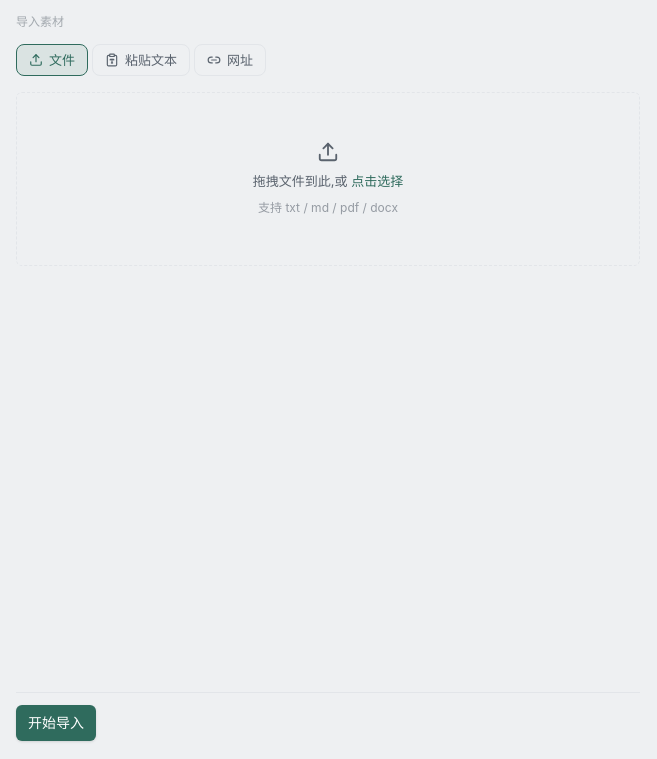
Test: 素材导入可信反馈 › 提交部分失败时留在页面显示失败项和原因
The width and height of the screenshot is (657, 759).
Click the button "粘贴文本": (141, 60) 92,44 -> 190,76
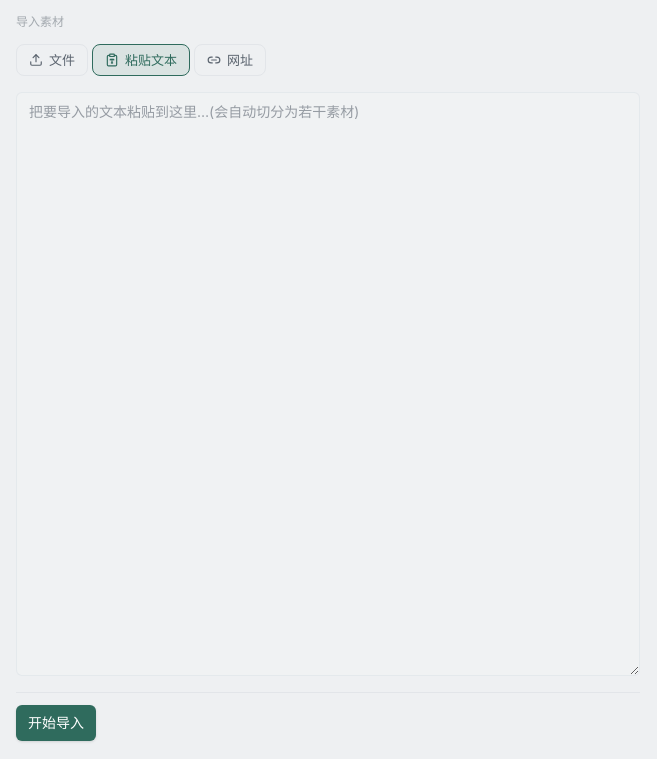
In the text box named "粘贴要导入的文本": (328, 384) 16,92 -> 640,676, type "一段素材"
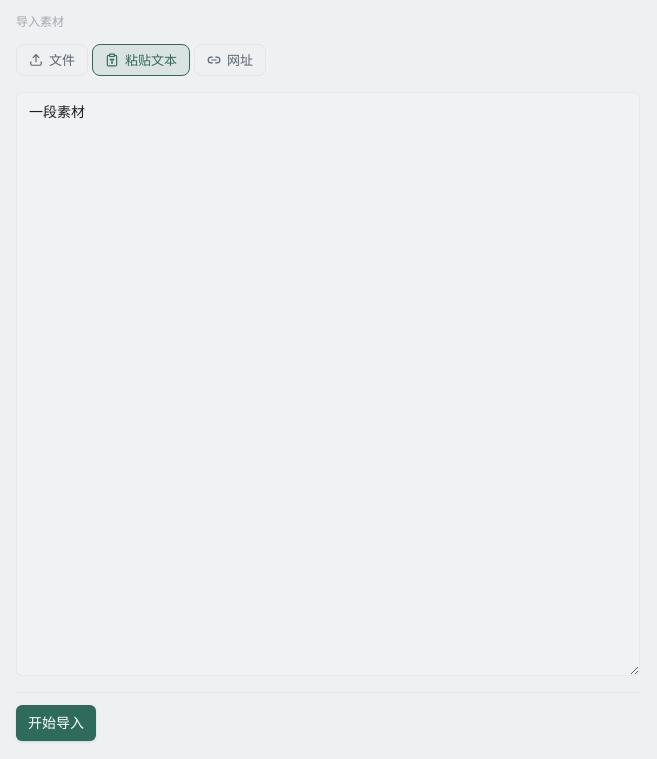
Click the button "开始导入": (56, 723) 16,705 -> 96,741
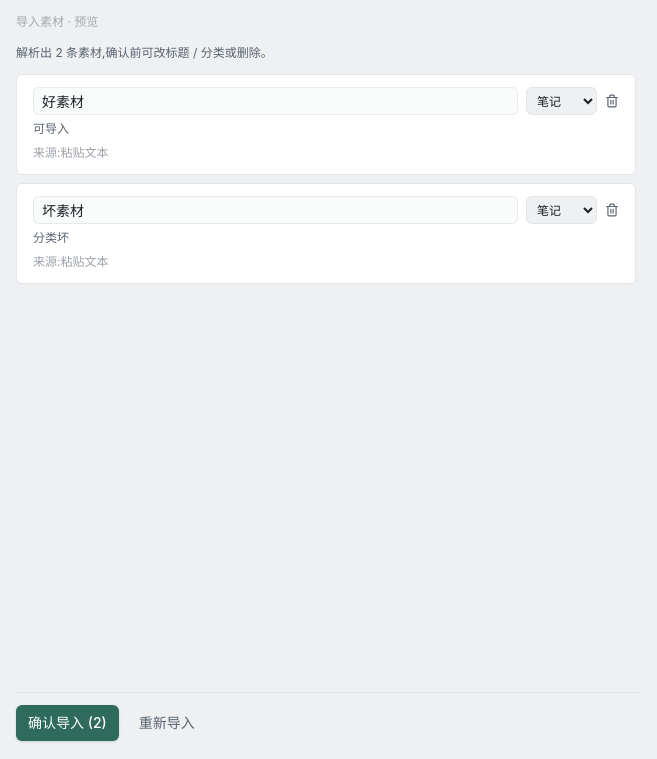
Expected: the text "解析出 2 条素材,确认前可改标题 / 分类或删除。" is shown, 16,45 -> 273,60
Click the button "确认导入 (2)": (67, 723) 16,705 -> 119,741
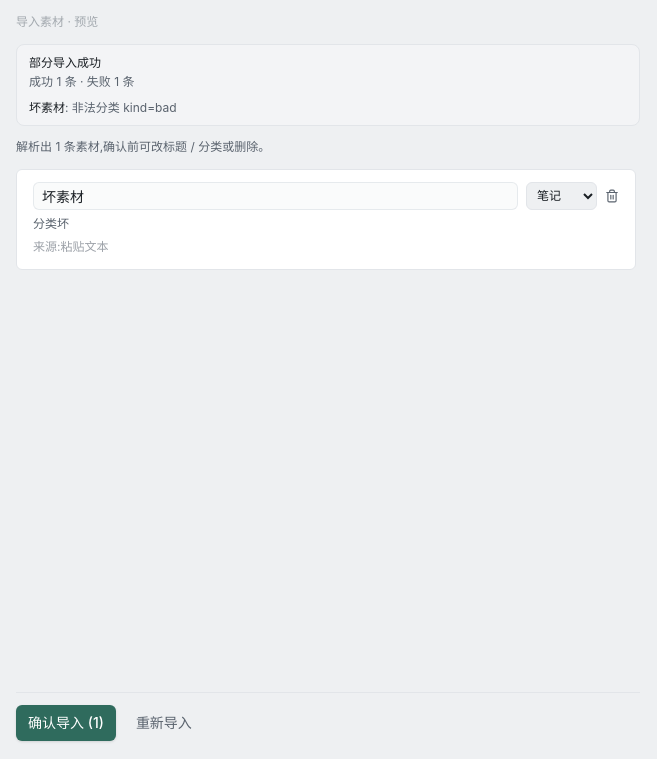
Expected: the text "部分导入成功" is shown, 29,55 -> 101,70
Expected: the text "成功 1 条 · 失败 1 条" is shown, 29,74 -> 134,89
Expected: the text "坏素材" is shown, 29,100 -> 65,115
